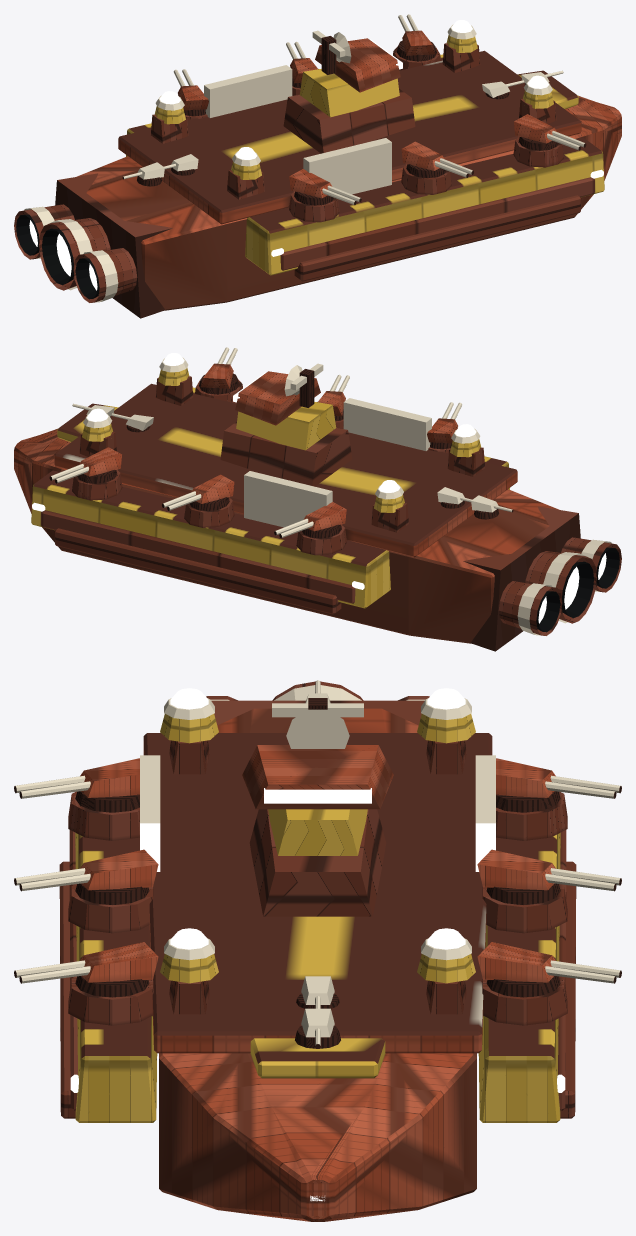
The model's file is cruiser.glb.
3 renders of one model, top to bottom at view 1: azimuth 30°, elevation 25°; view 2: azimuth 150°, elevation 25°; view 3: azimuth 270°, elevation 25°, orthographic. The views are drawn at different scales.
Parts seen in each view (by area): view 1: hull_body, weapon_turrets, engine_block, sensor_tower, shield_pylons; view 2: hull_body, weapon_turrets, engine_block, sensor_tower, shield_pylons; view 3: hull_body, weapon_turrets, sensor_tower, shield_pylons, engine_block.
Boxes of the visible parts, <box> form: hull_body: <box>76,50,621,310</box>; weapon_turrets: <box>122,14,586,222</box>; engine_block: <box>14,173,172,318</box>; sensor_tower: <box>283,30,415,153</box>; shield_pylons: <box>151,20,556,199</box>; hull_body: <box>14,383,559,643</box>; weapon_turrets: <box>49,347,513,555</box>; engine_block: <box>463,506,621,651</box>; sensor_tower: <box>220,363,352,486</box>; shield_pylons: <box>79,353,484,532</box>; hull_body: <box>59,708,576,1221</box>; weapon_turrets: <box>14,680,621,1048</box>; sensor_tower: <box>242,698,393,916</box>; shield_pylons: <box>160,688,475,1014</box>; engine_block: <box>206,681,429,725</box>.
Bounding box in the file's own units: 42 × 14.28 × 23.37.
1 material, 1 textured.
